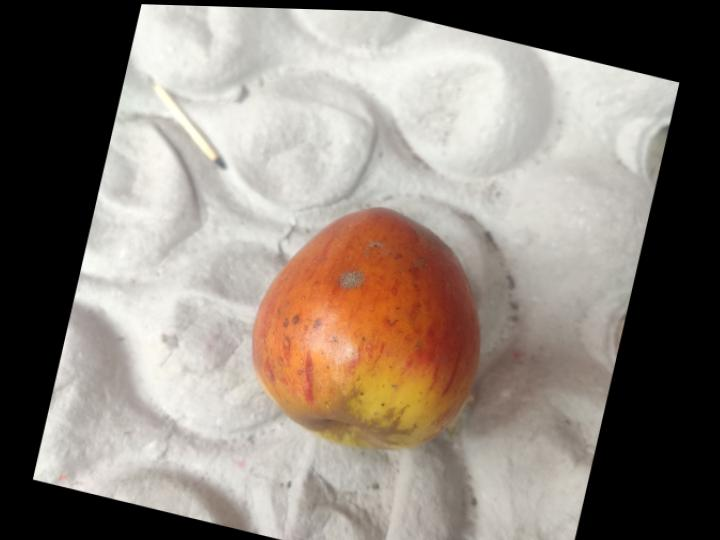apple: (254, 207, 479, 448)
bruise_discoloration: (271, 380, 418, 447)
surface_damage: (389, 307, 414, 327), (339, 269, 364, 288), (411, 257, 425, 266), (368, 240, 384, 246)
